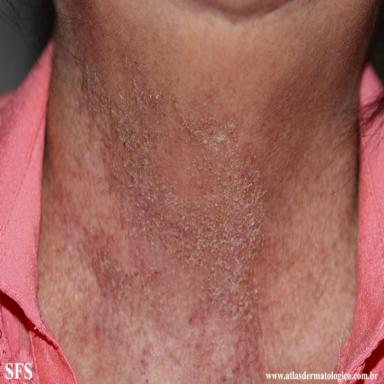Darier_s-Disease: (58, 4, 282, 383)
